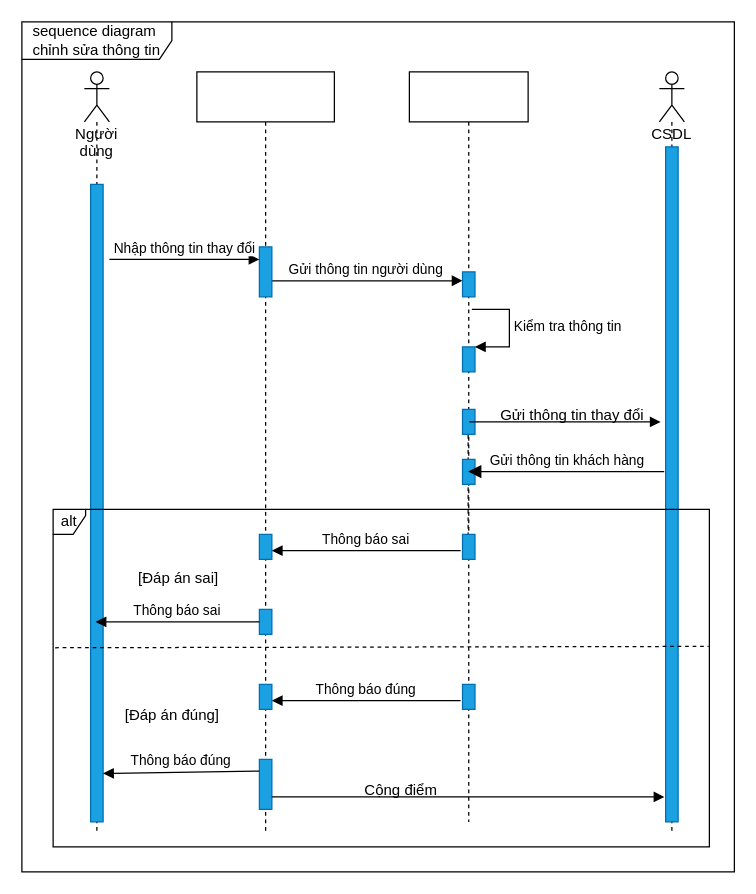
Some shapes in this 756 by 894 pixel diagram are drawn without their labels. Each missing label, with the box of its shape:
:ChinhSuaThongTin: (408, 71, 528, 822)
:FormChinhSuaThongTin: (196, 71, 334, 834)
